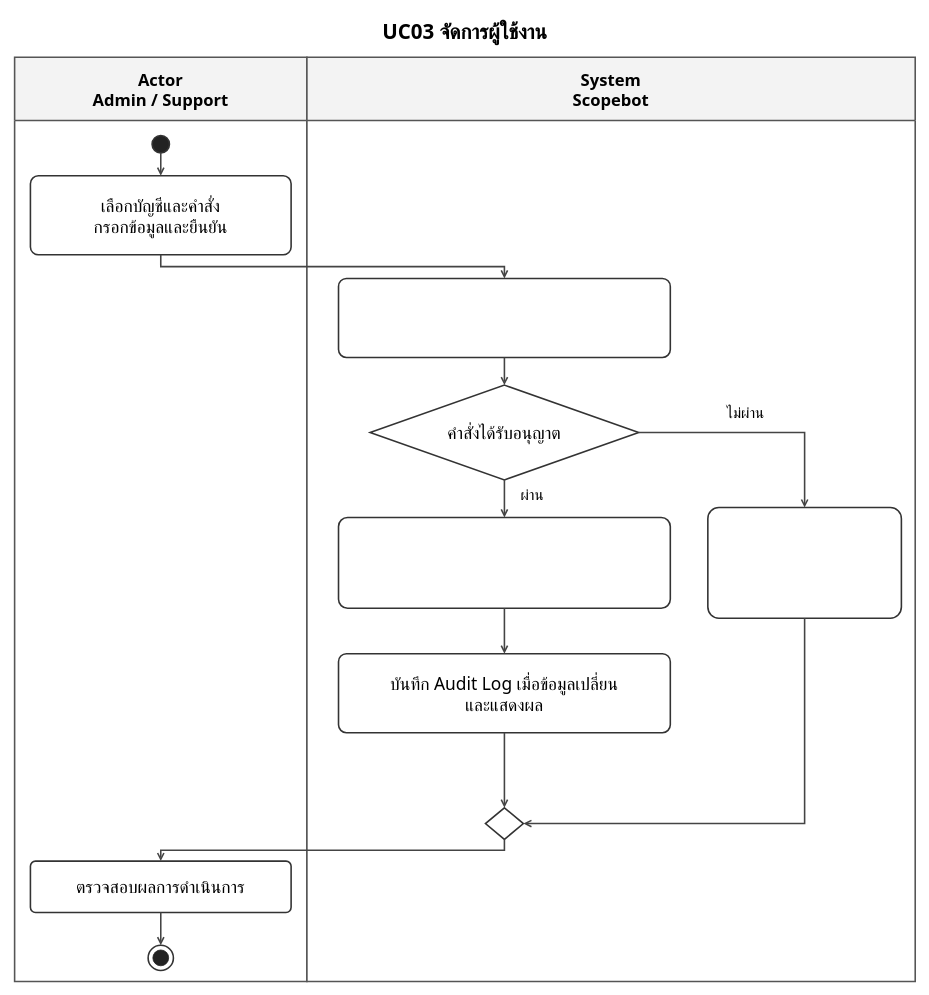
Image size: 929x995. Some labels were removed from this diagram. Each missing label, with the box of its shape:
ตรวจบทบาทผู้ดำเนินการ และข้อจำกัดต่อบัญชีเป้าหมาย: (337, 277, 671, 358)
ปฏิเสธคำสั่ง แจ้งสาเหตุ ไม่เปลี่ยนข้อมูล: (707, 506, 902, 619)
อนุมัติ ปฏิเสธ หรือปรับบัญชี ตามคำสั่งที่ผ่านเงื่อนไข: (337, 516, 671, 609)
